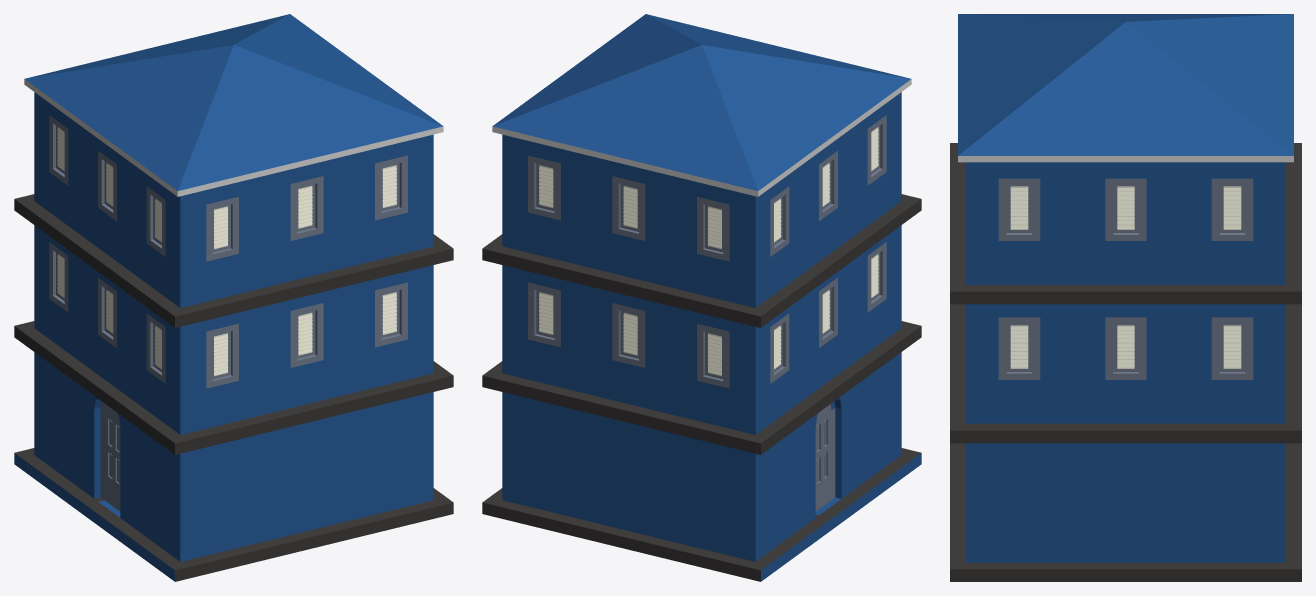
The model's file is HOUSE2.fbx.
The picture shows the model from 3 angles, left to right: view 1: azimuth 30°, elevation 25°; view 2: azimuth 150°, elevation 25°; view 3: azimuth 270°, elevation 25°; orthographic projection. The views are drawn at different scales.
Visible parts, largest first — view 1: Building1; view 2: Building1; view 3: Building1.
Part boxes in pixels (x1,y1,x2,y2): Building1: [14, 14, 453, 581]; Building1: [482, 14, 921, 581]; Building1: [950, 14, 1301, 581].
Bounding box in the file's own units: 1650 × 2515 × 1650.
